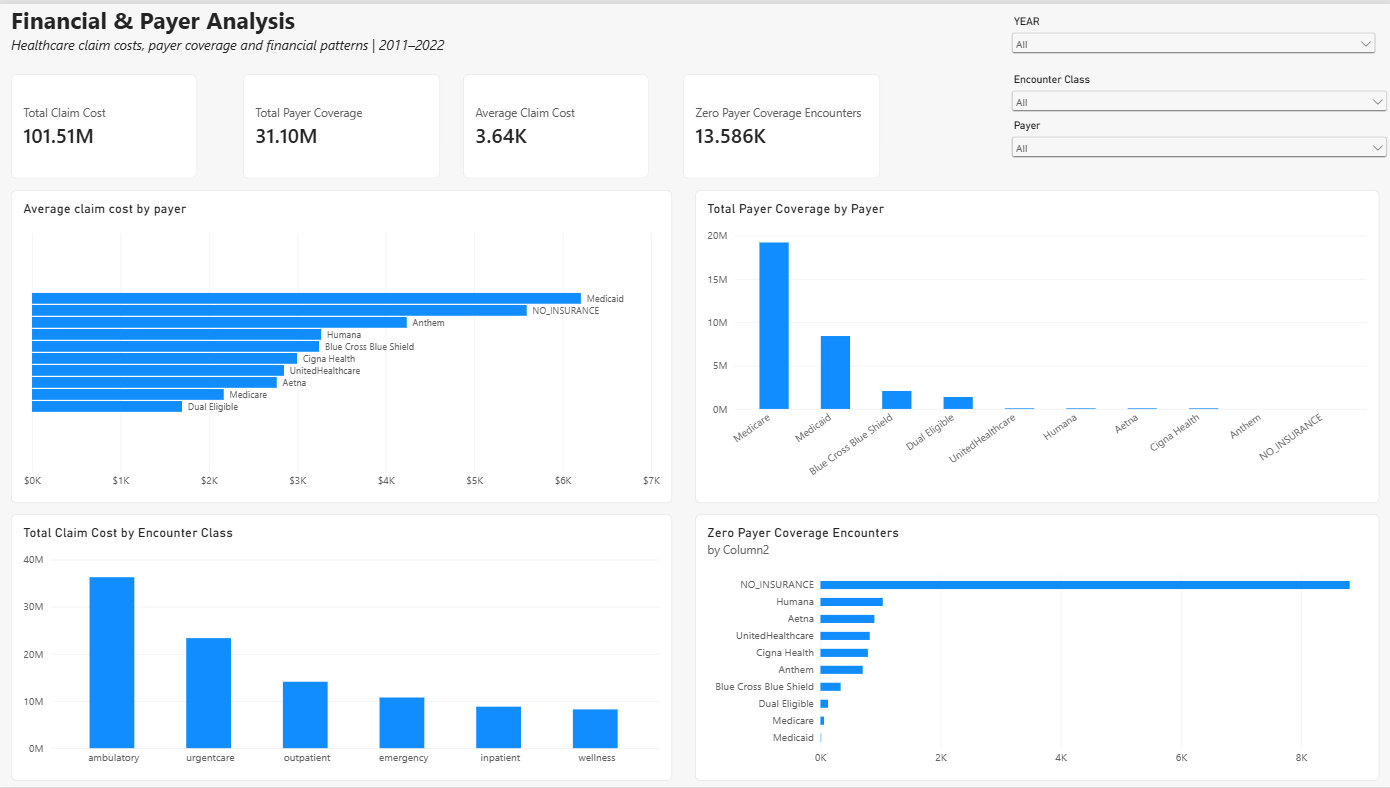

The dashboard page shown, as its layout file describes it:
{"tool":"powerbi","page":{"name":"Financial & Payer Analysis","canvas":[1920,1080],"ordinal":2},"visuals":[{"type":"textbox","box":[16,0,688,80],"z":0},{"type":"cardVisual","fields":{"Data":["fact_encounters.Total Claim Cost"]},"box":[16,96,256,144],"z":1},{"type":"cardVisual","fields":{"Data":["fact_encounters.Total Payer Coverage"]},"box":[336,96,272,144],"z":2},{"type":"cardVisual","fields":{"Data":["fact_encounters.Average Claim Cost"]},"box":[640,96,256,144],"z":3},{"type":"cardVisual","fields":{"Data":["fact_encounters.Zero Payer Coverage Encounters"]},"box":[944,96,272,144],"z":4},{"type":"clusteredColumnChart","title":"Total Claim Cost by Encounter Class","fields":{"Category":["dim_encounter_class.Column1"],"Y":["fact_encounters.Total Claim Cost"]},"box":[16,704,912,368],"z":5},{"type":"clusteredBarChart","title":"Average claim cost by payer","fields":{"Series":["dim_payers.Column2"],"Y":["fact_encounters.Average Claim Cost"]},"box":[16,256,912,432],"z":6},{"type":"clusteredColumnChart","title":"Total Payer Coverage by Payer","fields":{"Category":["dim_payers.Column2"],"Y":["fact_encounters.Total Payer Coverage"]},"box":[960,256,944,432],"z":7},{"type":"clusteredBarChart","fields":{"Category":["dim_payers.Column2"],"Y":["fact_encounters.Zero Payer Coverage Encounters"]},"box":[960,704,944,368],"z":8},{"type":"slicer","fields":{"Values":["dim_date.YEAR"]},"box":[1392,16,512,64],"z":9},{"type":"slicer","fields":{"Values":["dim_encounter_class.Column1"]},"box":[1392,96,528,64],"z":10},{"type":"slicer","fields":{"Values":["dim_payers.Column2"]},"box":[1392,160,528,64],"z":11}]}

Visuals, with their boxes in screenshot pixels (x1, y1, x2, y2), scaled from the page's 1920x1080 canvas onto the 1390x788 screenshot:
textbox: BBox(12, 0, 510, 58)
cardVisual - fact_encounters.Total Claim Cost: BBox(12, 70, 197, 175)
cardVisual - fact_encounters.Total Payer Coverage: BBox(243, 70, 440, 175)
cardVisual - fact_encounters.Average Claim Cost: BBox(463, 70, 649, 175)
cardVisual - fact_encounters.Zero Payer Coverage Encounters: BBox(683, 70, 880, 175)
"Total Claim Cost by Encounter Class" clusteredColumnChart: BBox(12, 514, 672, 782)
"Average claim cost by payer" clusteredBarChart: BBox(12, 187, 672, 502)
"Total Payer Coverage by Payer" clusteredColumnChart: BBox(695, 187, 1378, 502)
clusteredBarChart - dim_payers.Column2 x fact_encounters.Zero Payer Coverage Encounters: BBox(695, 514, 1378, 782)
slicer - dim_date.YEAR: BBox(1008, 12, 1378, 58)
slicer - dim_encounter_class.Column1: BBox(1008, 70, 1389, 117)
slicer - dim_payers.Column2: BBox(1008, 117, 1389, 163)
